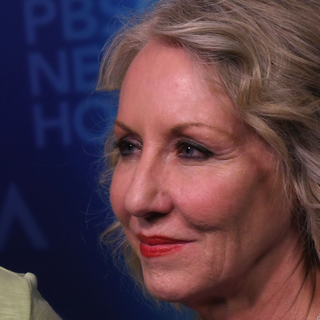eye: (167, 138, 223, 164), (109, 134, 145, 160)
